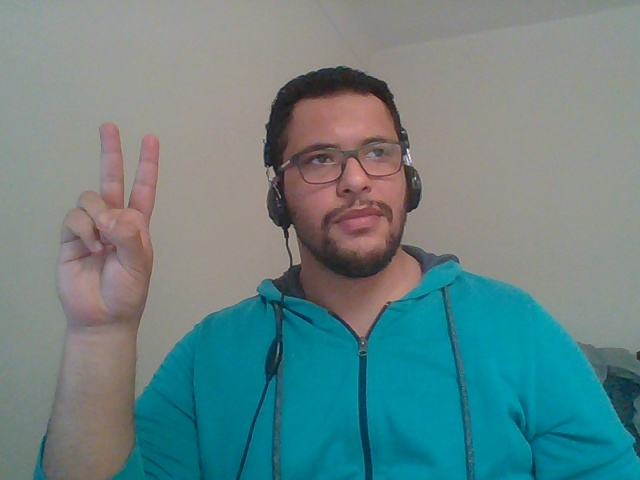vectory: (20, 108, 172, 356)
